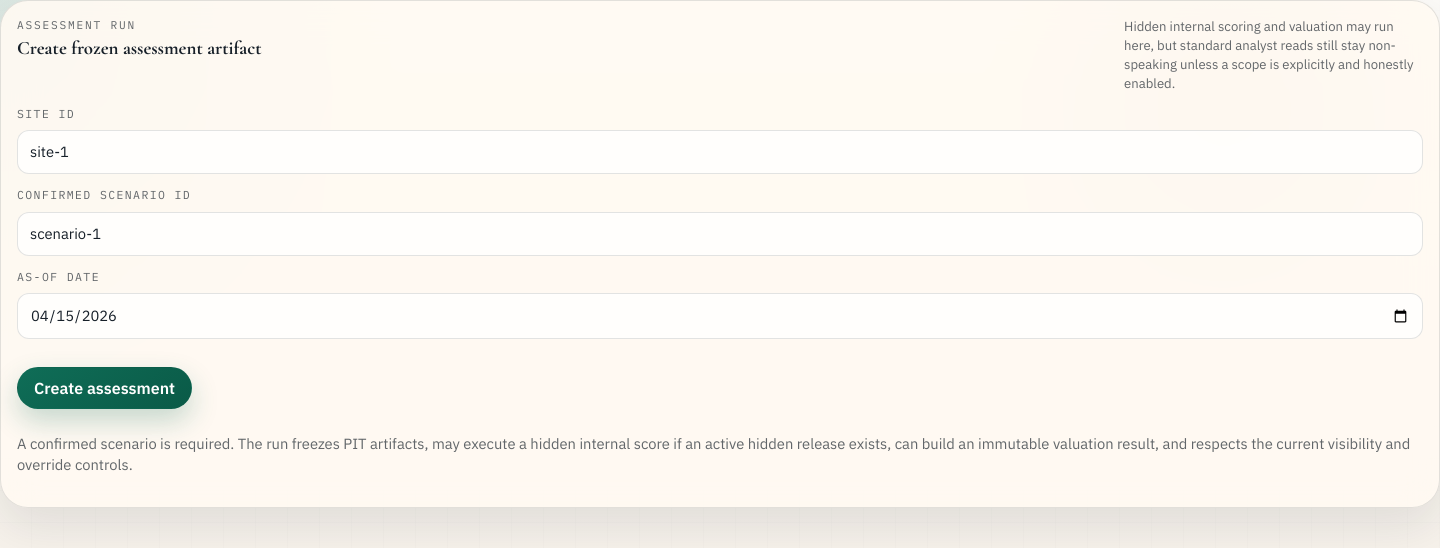
Test: AssessmentRunBuilder › shows a failure message when assessment creation does not return an item
Click the button "Create assessment": (104,388) [17, 367, 192, 409]
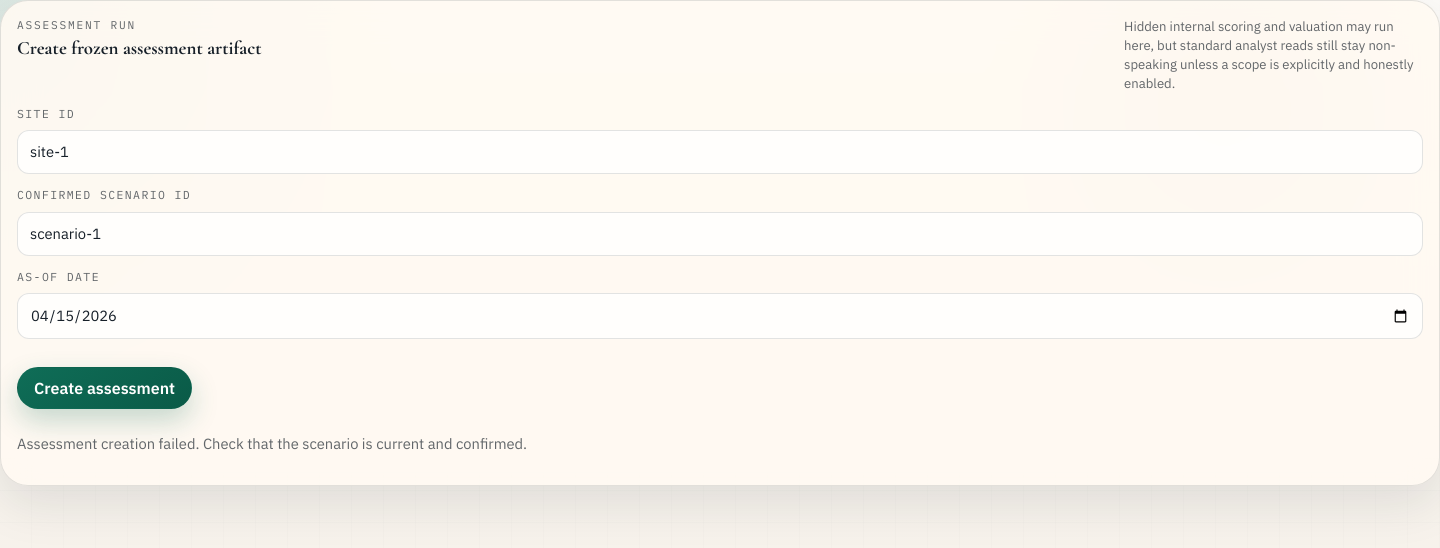
Result: the text "Assessment creation failed. Check that the scenario is current and confirmed." is shown at [17, 434, 527, 453]
